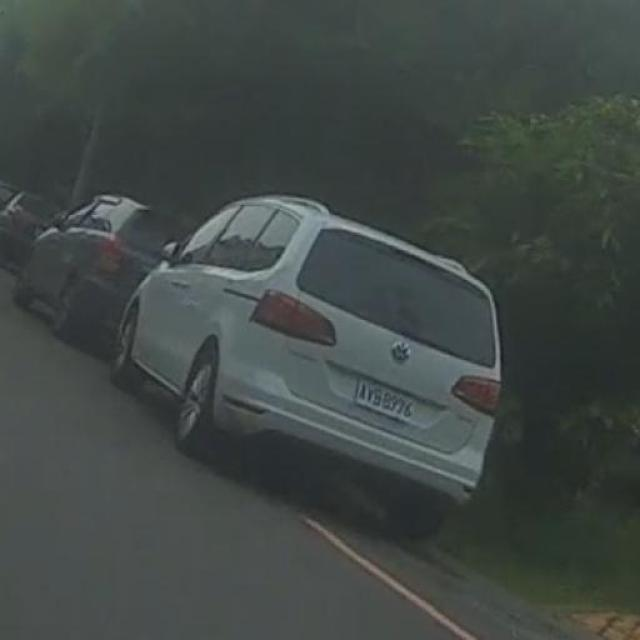Legalparking: (0, 172, 494, 526)
